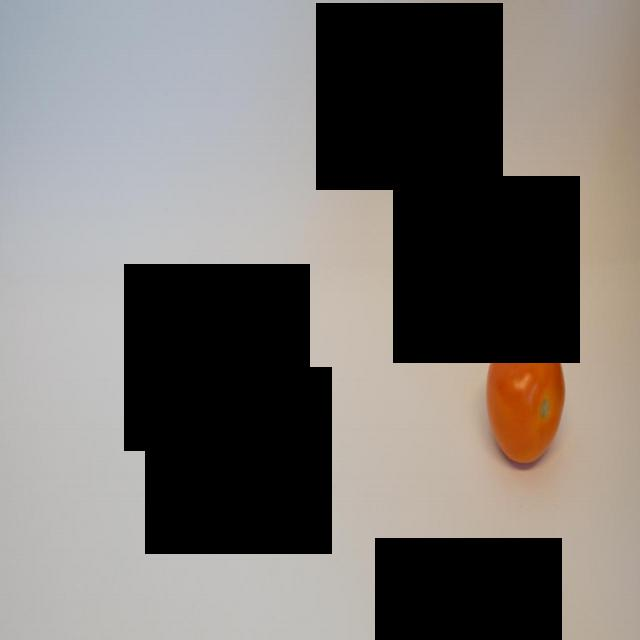tomato: (486, 316, 567, 477)
